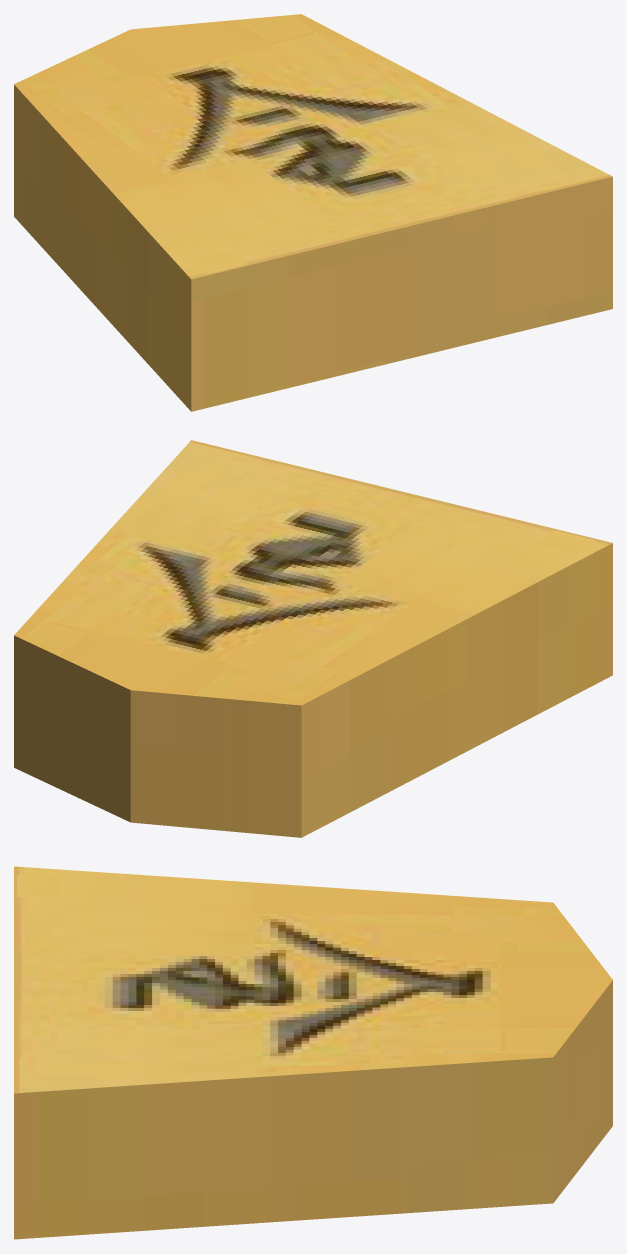
The model's file is KEIMA_01.fbx.
3 renders of one model, top to bottom at view 1: azimuth 30°, elevation 25°; view 2: azimuth 150°, elevation 25°; view 3: azimuth 270°, elevation 25°, orthographic. The views are drawn at different scales.
Parts seen in each view (by area): view 1: Circle; view 2: Circle; view 3: Circle.
Part boxes in pixels (x1,y1,x2,y2): Circle: [14, 14, 612, 411]; Circle: [14, 440, 612, 837]; Circle: [14, 866, 612, 1239].
Bounding box in the file's own units: 100 × 30 × 112.
